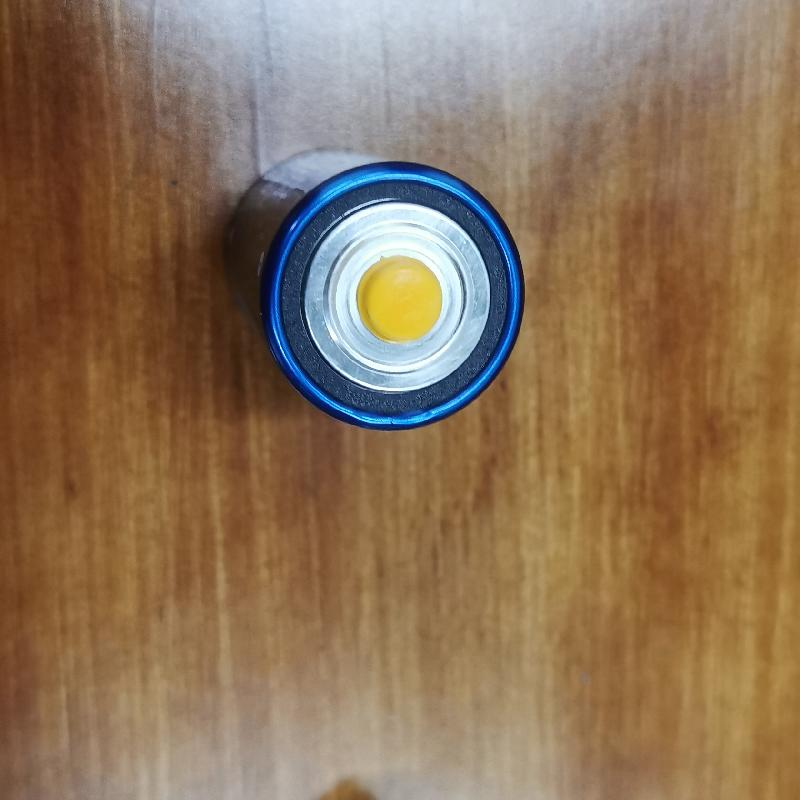battery: (221, 121, 529, 438)
